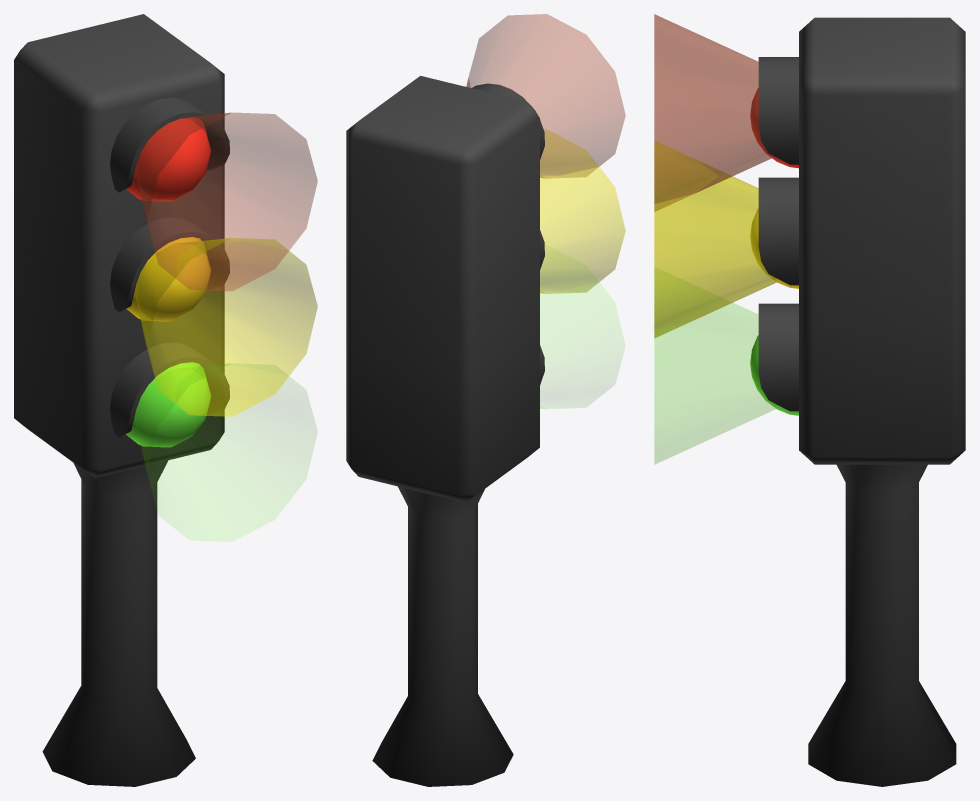
Rendered from Trafic_light.fbx.
3 renders of one model, left to right at view 1: azimuth 30°, elevation 25°; view 2: azimuth 150°, elevation 25°; view 3: azimuth 270°, elevation 25°, orthographic. The views are drawn at different scales.
Visible parts, largest first — view 1: Trafic_light, Light4, Light10, Light3; view 2: Trafic_light, Light10, Light4; view 3: Trafic_light, Light4, Light10, Light3.
Boxes of the visible parts, x1=… form: Trafic_light: x1=14, y1=14, x2=229, y2=786; Light4: x1=135, y1=238, x2=317, y2=416; Light10: x1=135, y1=112, x2=317, y2=290; Light3: x1=135, y1=363, x2=230, y2=472; Trafic_light: x1=346, y1=76, x2=544, y2=786; Light10: x1=466, y1=14, x2=625, y2=178; Light4: x1=540, y1=129, x2=625, y2=293; Trafic_light: x1=750, y1=17, x2=965, y2=786; Light4: x1=654, y1=141, x2=776, y2=338; Light10: x1=654, y1=14, x2=772, y2=211; Light3: x1=654, y1=268, x2=775, y2=463.
Size of the model in its own units: 21.26 by 86.19 by 33.28.
4 materials, 1 textured.
